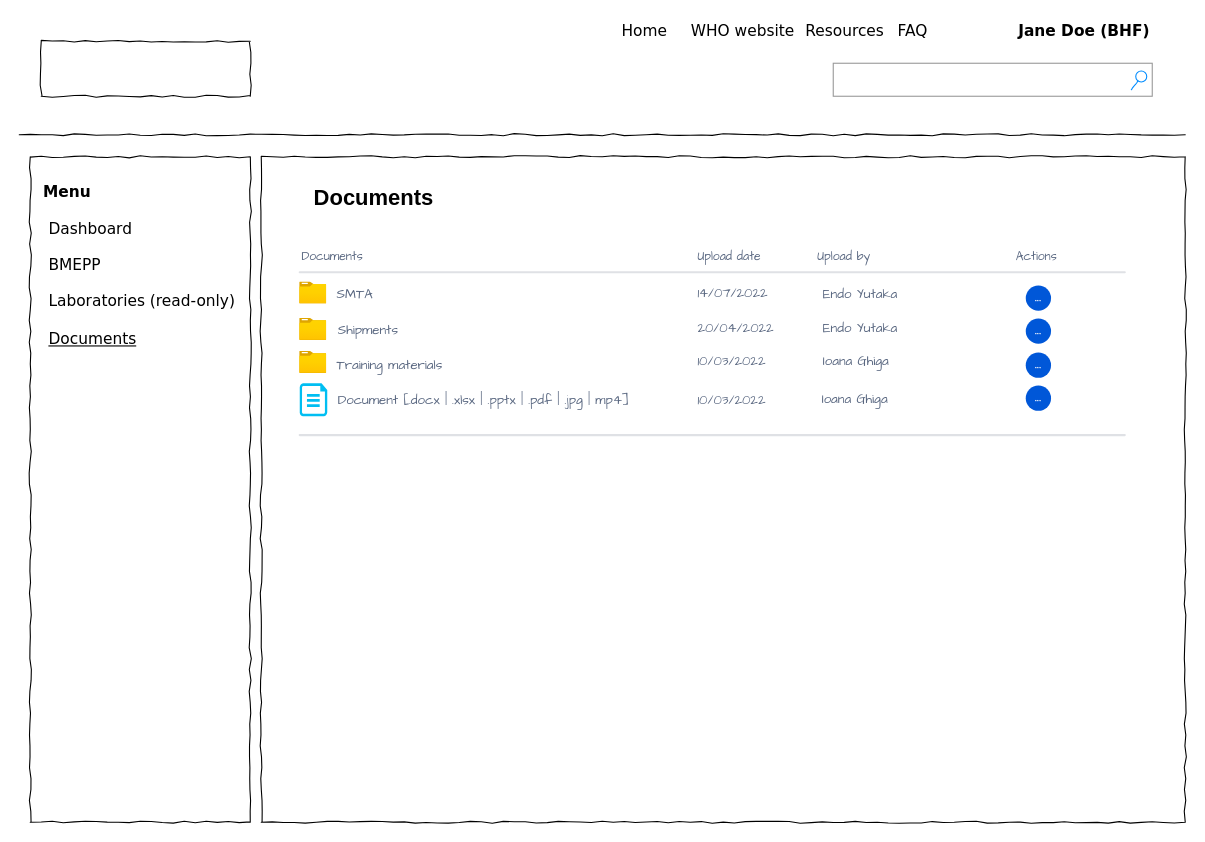
Some shapes in this 1205 by 842 pixel diagram are drawn without their labels. The shapes that lost their labels are listed below. From the top down, each one's centre as x and y in pixels, then its label:
At point 145,68: "LOGO".
At point 992,79: "Search".
